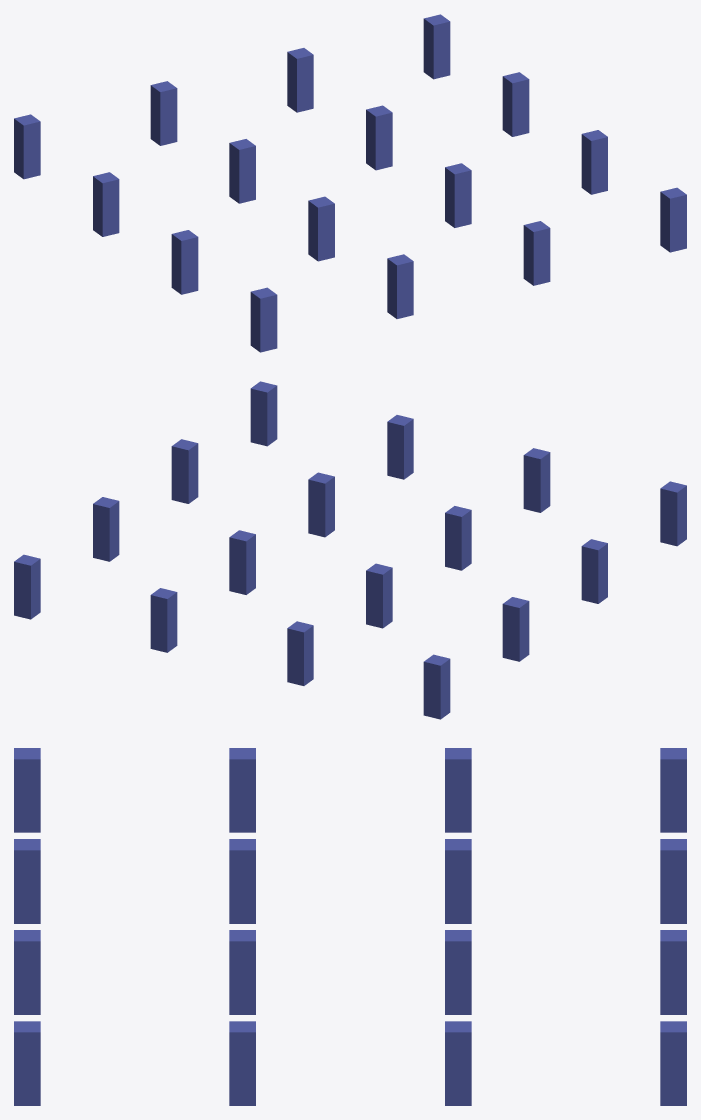
File: House2.obj
3 views of the same model, one above another, from view 1: azimuth 30°, elevation 25°; view 2: azimuth 150°, elevation 25°; view 3: azimuth 270°, elevation 25° (orthographic). The views are drawn at different scales.
Parts seen in each view (by area): view 1: House2_Cube; view 2: House2_Cube; view 3: House2_Cube.
Part boxes in pixels (x1=…): House2_Cube: x1=14, y1=14, x2=686, y2=352; House2_Cube: x1=14, y1=381, x2=686, y2=719; House2_Cube: x1=14, y1=748, x2=686, y2=1105.
Size of the model in its own units: 772 by 93.04 by 772.
